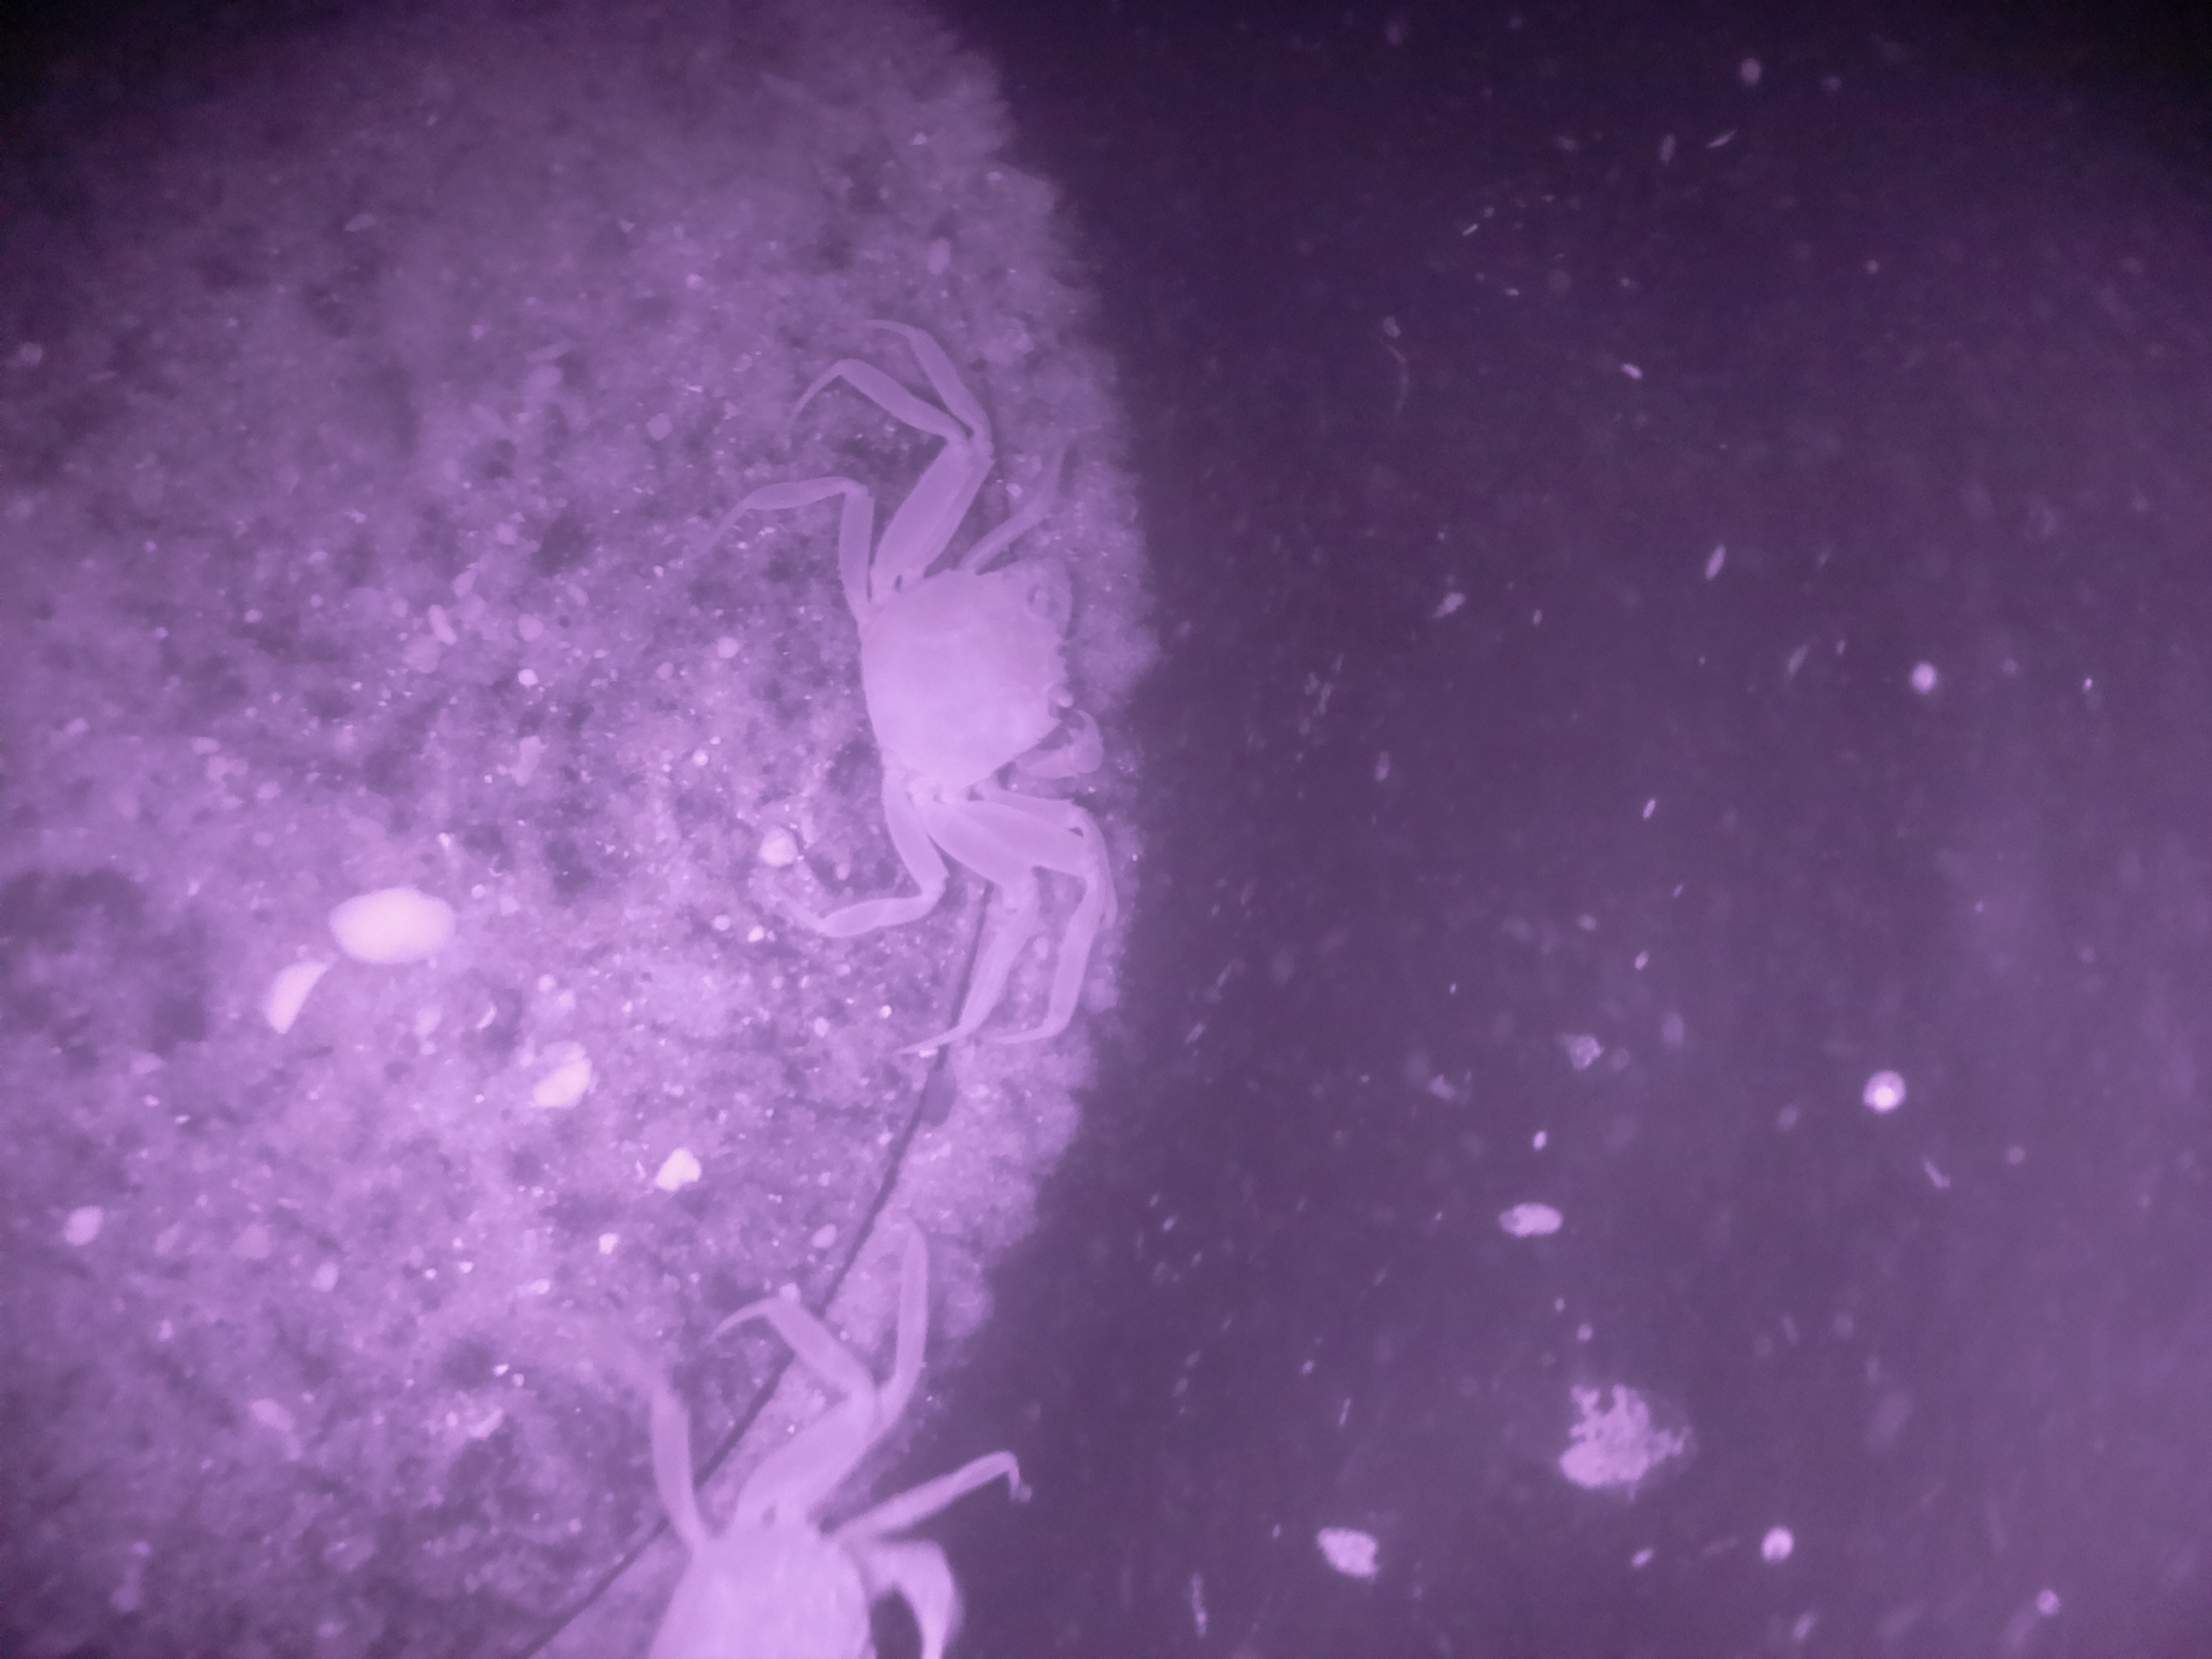Crab: (738, 471, 1197, 918)
